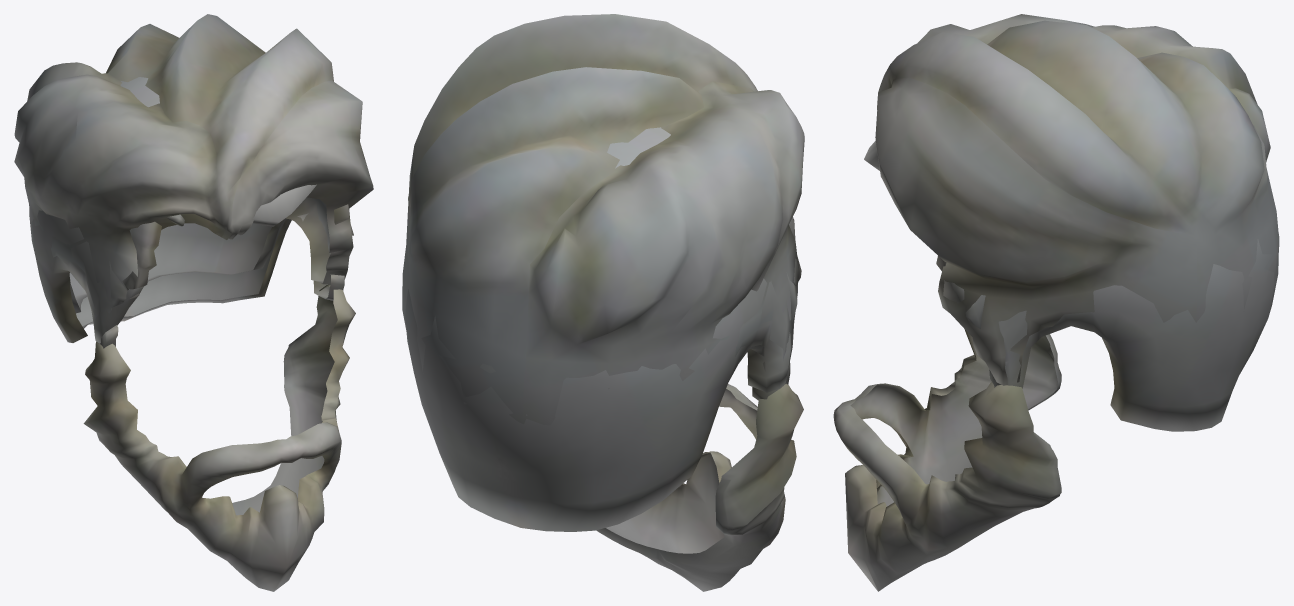
File: hair.glb
3 renders of one model, left to right at view 1: azimuth 30°, elevation 25°; view 2: azimuth 150°, elevation 25°; view 3: azimuth 270°, elevation 25°, orthographic. The views are drawn at different scales.
Visible parts, largest first — view 1: Hair_SimpleParted, Hair_Beard, Hair_Buzzed; view 2: Hair_SimpleParted, Hair_Buzzed, Hair_Beard; view 3: Hair_SimpleParted, Hair_Beard, Hair_Buzzed.
Boxes of the visible parts, x1=… form: Hair_SimpleParted: x1=14, y1=14, x2=373, y2=343; Hair_Beard: x1=83, y1=284, x2=355, y2=591; Hair_Buzzed: x1=29, y1=77, x2=353, y2=348; Hair_SimpleParted: x1=402, y1=14, x2=804, y2=425; Hair_Buzzed: x1=405, y1=127, x2=801, y2=531; Hair_Beard: x1=596, y1=383, x2=803, y2=591; Hair_SimpleParted: x1=875, y1=14, x2=1279, y2=385; Hair_Beard: x1=833, y1=329, x2=1061, y2=591; Hair_Buzzed: x1=864, y1=140, x2=1279, y2=431.
Size of the model in its own units: 0.1754 by 0.2902 by 0.205.
1 material, 1 textured.
